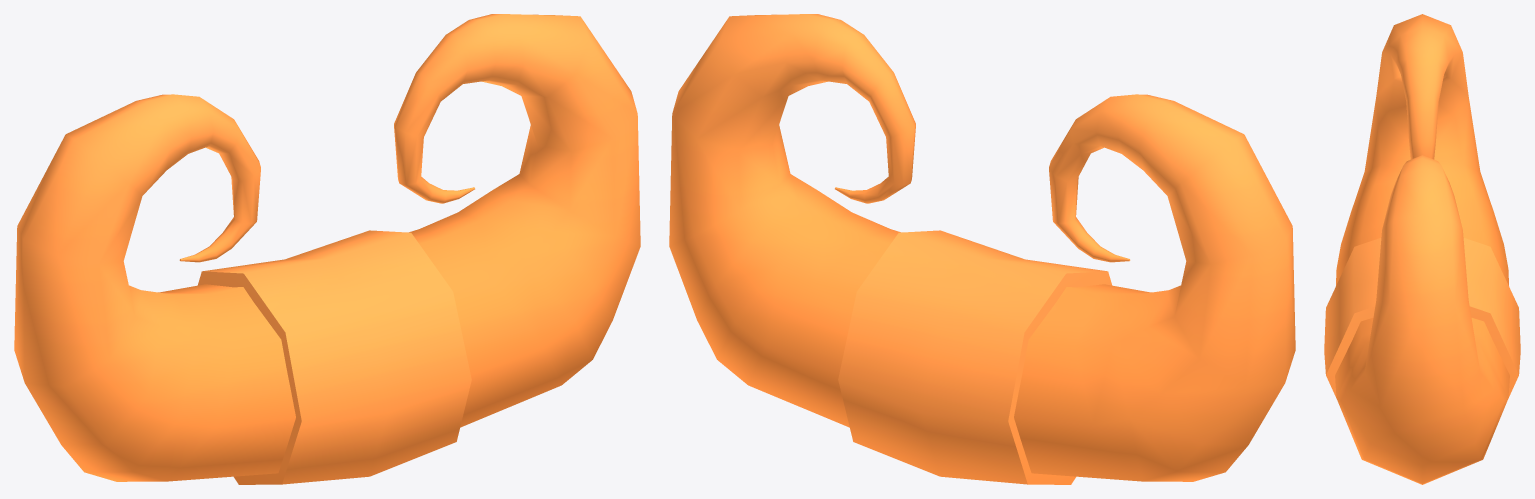
Rendered from bronze_guard_071.glb.
3 renders of one model, left to right at view 1: azimuth 30°, elevation 25°; view 2: azimuth 150°, elevation 25°; view 3: azimuth 270°, elevation 25°, orthographic. The views are drawn at different scales.
Visible parts, largest first — view 1: bronze_guard_071; view 2: bronze_guard_071; view 3: bronze_guard_071.
Boxes of the visible parts, x1,y1,x2,y2 form: bronze_guard_071: (14, 14, 640, 484); bronze_guard_071: (669, 14, 1295, 484); bronze_guard_071: (1324, 14, 1520, 484).
Size of the model in its own units: 5.58 by 3.68 by 1.92.
1 material, 1 textured.
